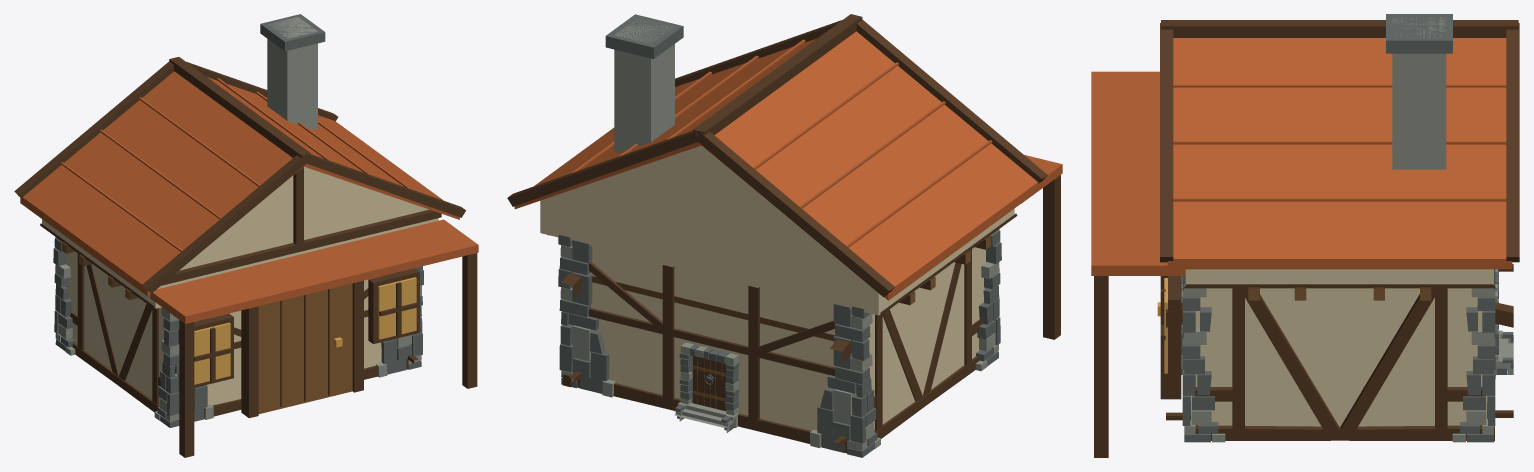
File: house_a.glb
3 views of the same model, side by side, from view 1: azimuth 30°, elevation 25°; view 2: azimuth 150°, elevation 25°; view 3: azimuth 270°, elevation 25° (orthographic). The views are drawn at different scales.
Parts seen in each view (by area): view 1: house_a; view 2: house_a; view 3: house_a.
Boxes of the visible parts, <box> form: house_a: <box>14,14,478,457</box>; house_a: <box>507,14,1062,457</box>; house_a: <box>1091,14,1519,457</box>.
Bounding box in the file's own units: 7 × 6 × 6.
